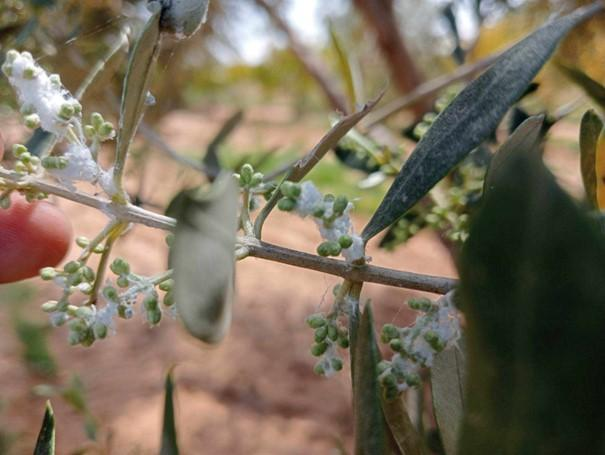Psyllid: (0, 48, 132, 218), (44, 258, 200, 349), (378, 298, 471, 406), (274, 178, 380, 270), (302, 287, 361, 381)
